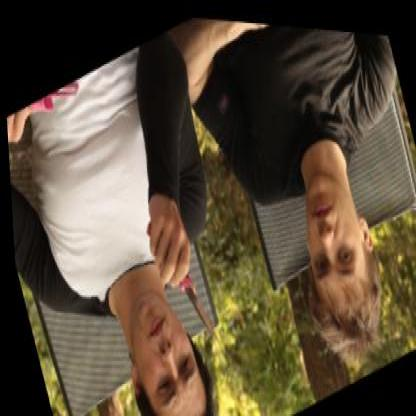knife: (145, 218, 223, 374)
